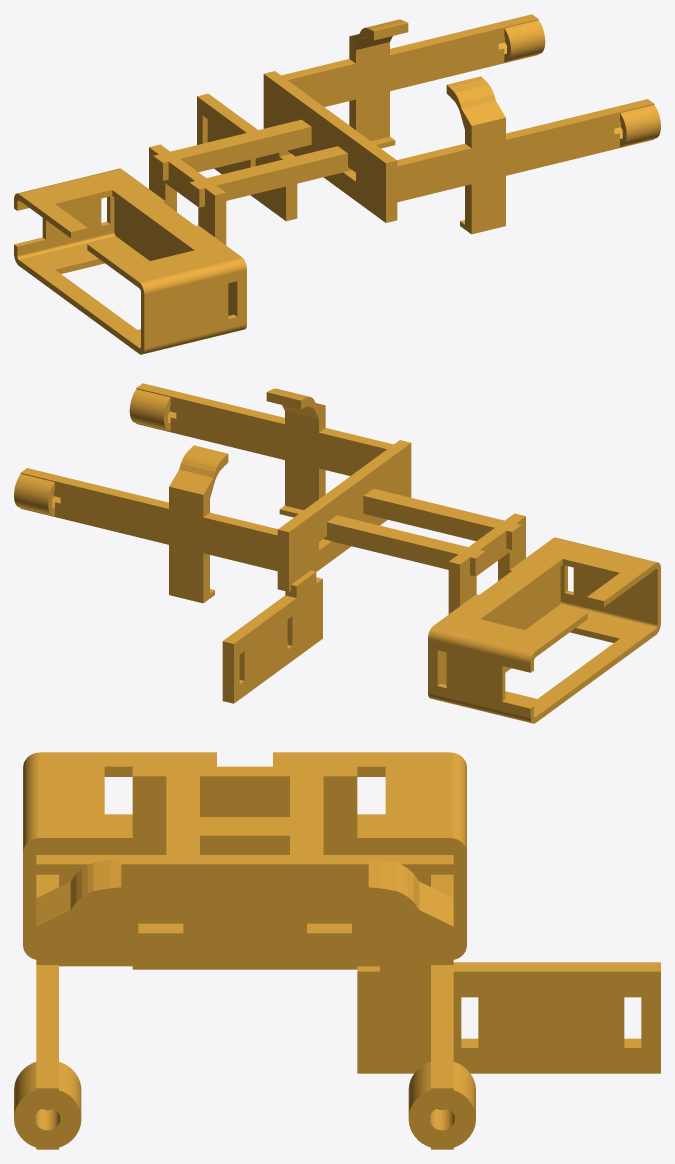
File: saddle.glb
The picture shows the model from 3 angles, top to bottom: view 1: azimuth 30°, elevation 25°; view 2: azimuth 150°, elevation 25°; view 3: azimuth 270°, elevation 25°; orthographic projection. The views are drawn at different scales.
Parts seen in each view (by area): view 1: saddle; view 2: saddle; view 3: saddle.
Part boxes in pixels (<box>): saddle: <box>14,14,660,354</box>; saddle: <box>14,383,660,723</box>; saddle: <box>14,752,660,1149</box>.
Size of the model in its own units: 0.18 by 0.0572 by 0.1151.
